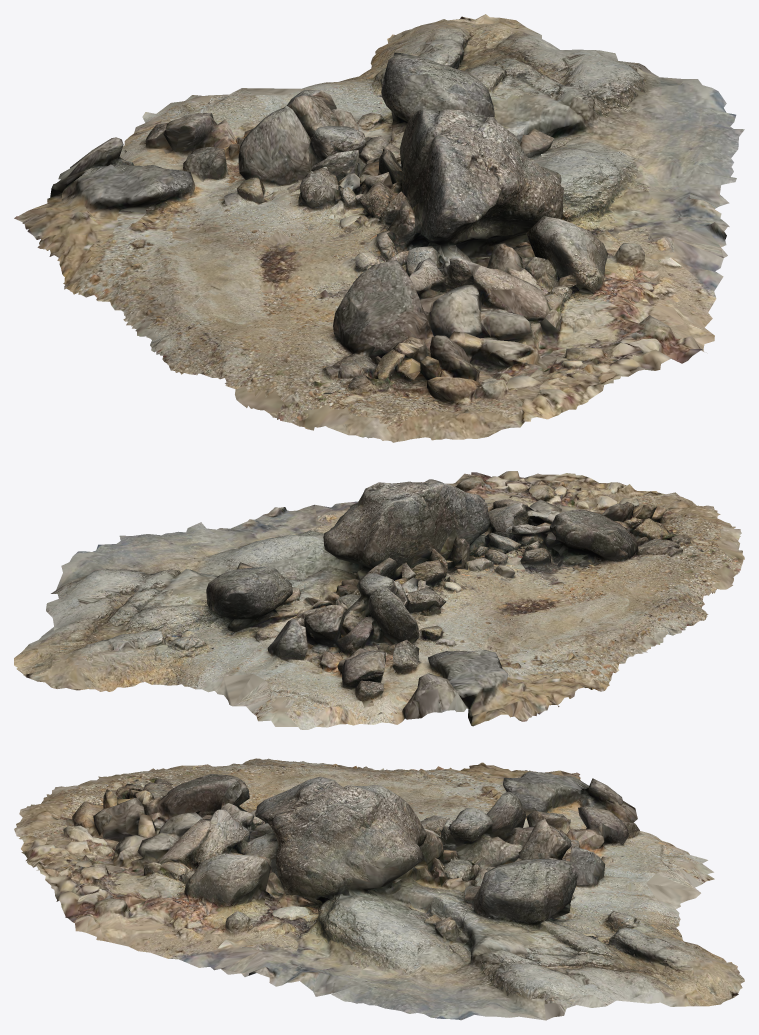
The model's file is beach_rocks.glb.
The picture shows the model from 3 angles, top to bottom: view 1: azimuth 30°, elevation 25°; view 2: azimuth 150°, elevation 25°; view 3: azimuth 270°, elevation 25°; orthographic projection. The views are drawn at different scales.
Parts seen in each view (by area): view 1: Beach rock scan from protugal; view 2: Beach rock scan from protugal; view 3: Beach rock scan from protugal.
Part boxes in pixels (bbox=[...]): Beach rock scan from protugal: bbox=[14, 14, 744, 442]; Beach rock scan from protugal: bbox=[14, 471, 744, 729]; Beach rock scan from protugal: bbox=[14, 758, 744, 1020].
Size of the model in its own units: 5.07 by 0.9631 by 5.78.
1 material, 1 textured.
